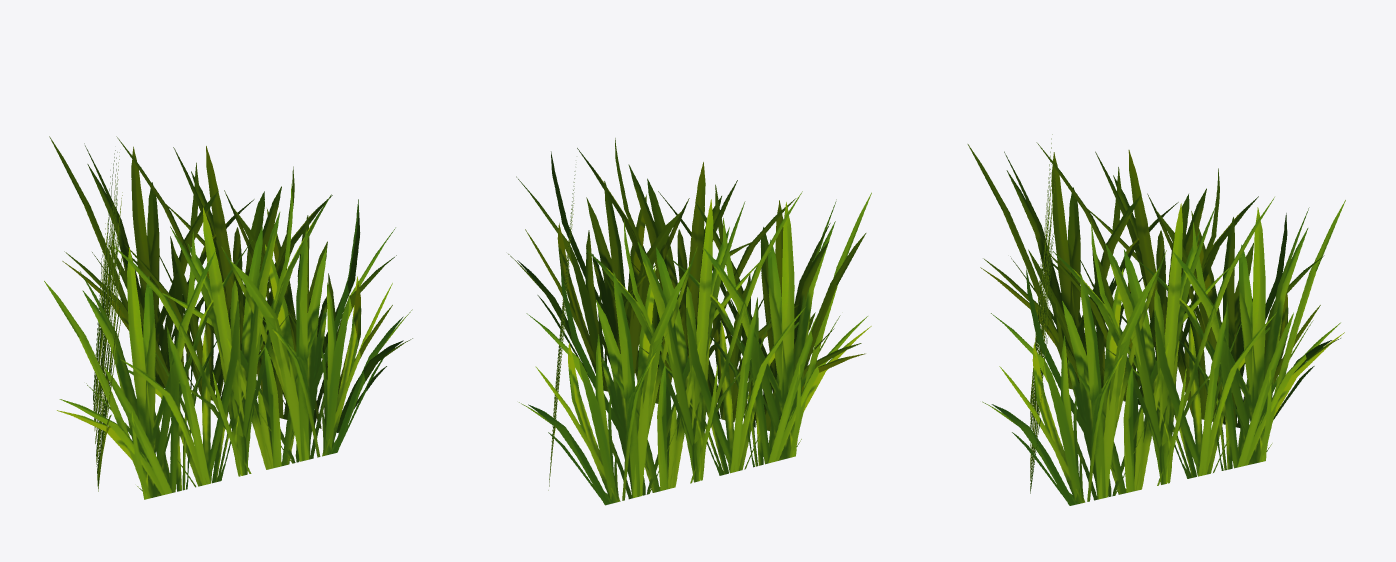
The model's file is planes_subdivide.fbx.
3 views of the same model, side by side, from view 1: azimuth 30°, elevation 25°; view 2: azimuth 150°, elevation 25°; view 3: azimuth 270°, elevation 25° (orthographic).
Visible parts, largest first — view 1: Plane, Plane.002, Plane.001; view 2: Plane.001, Plane, Plane.002; view 3: Plane.002, Plane.001, Plane.
Boxes of the visible parts, <box> form: Plane: <box>44,184,412,499</box>; Plane.002: <box>49,136,412,432</box>; Plane.001: <box>93,150,123,491</box>; Plane.001: <box>519,191,871,505</box>; Plane: <box>508,138,866,430</box>; Plane.002: <box>548,171,575,490</box>; Plane.002: <box>982,197,1345,505</box>; Plane.001: <box>967,142,1340,427</box>; Plane: <box>1030,134,1055,493</box>.
Bounding box in the file's own units: 200 × 153 × 186.
Materials: 1 (1 with a texture image).
